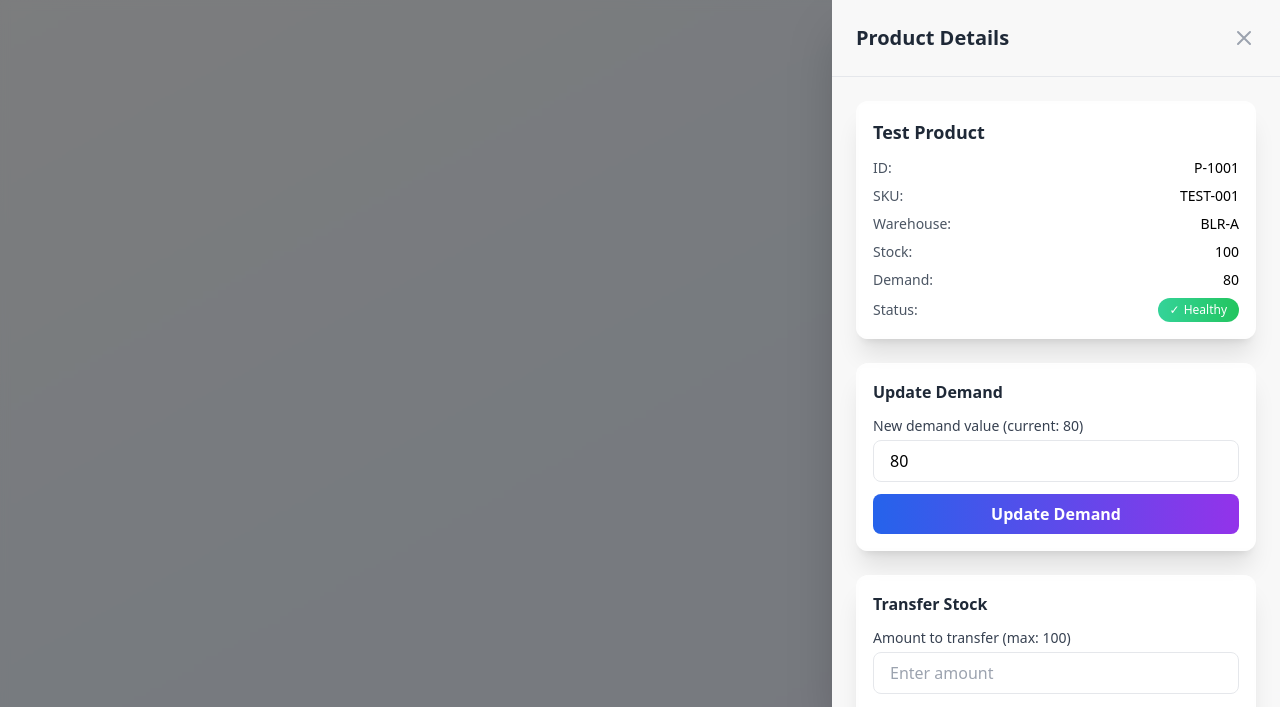
Test: Drawer › Form validation › should validate transfer quantity
The width and height of the screenshot is (1280, 707).
In the number field labelled "Amount to transfer (max: 100)": coordinates (1056, 673) [873, 652, 1239, 694], type "0"
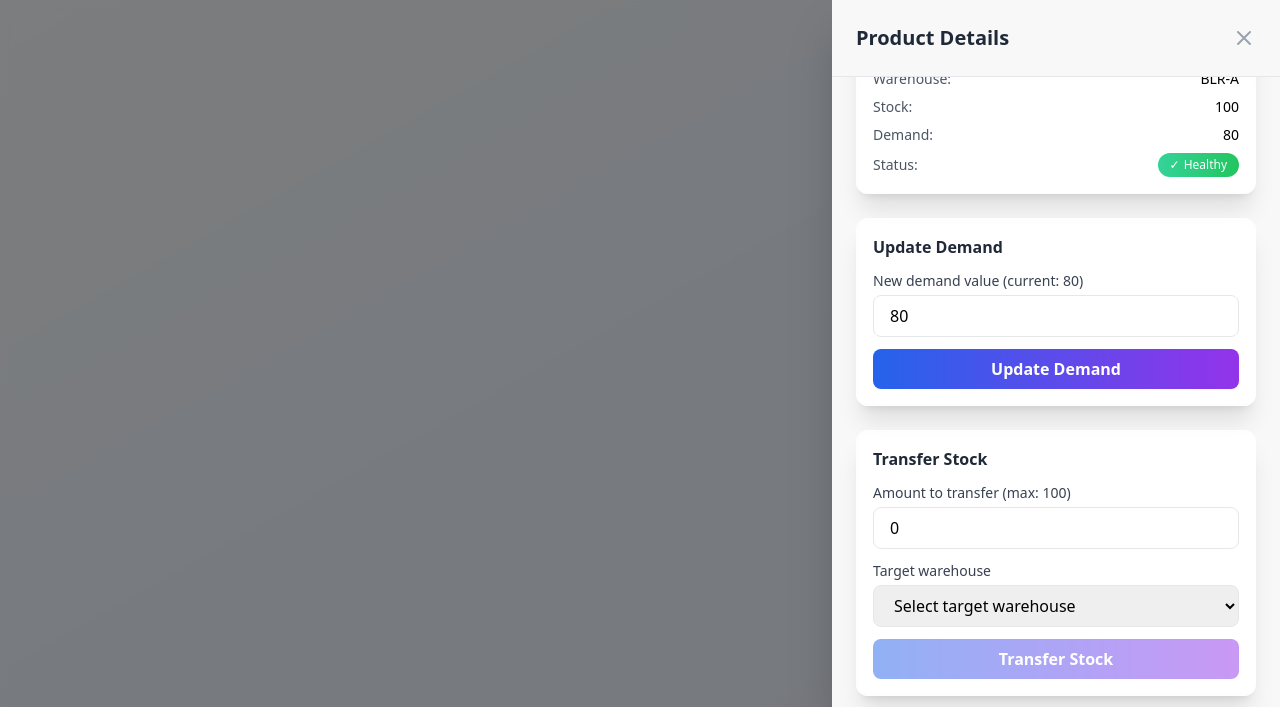
Result: the button "Transfer Stock" is disabled at [873, 639, 1239, 679]
